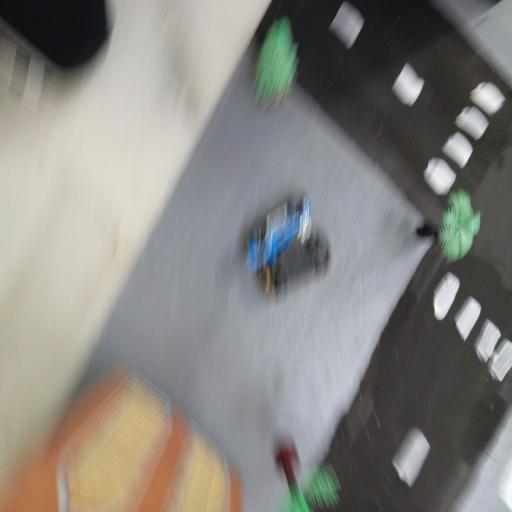car crash: (243, 190, 332, 294), (243, 190, 310, 271), (266, 234, 333, 289)
